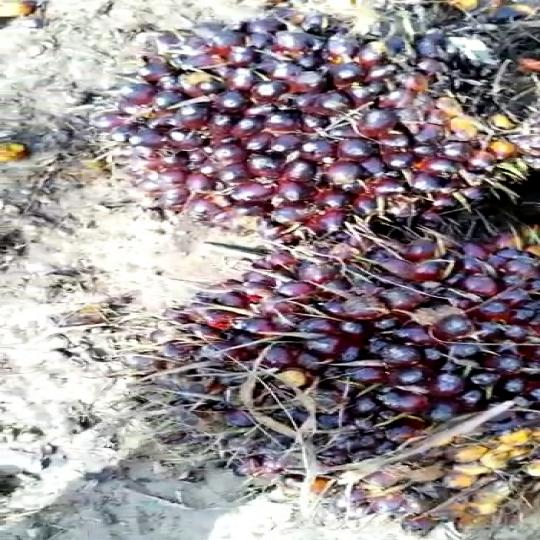kurang masak: (164, 233, 540, 532), (105, 16, 540, 223)
